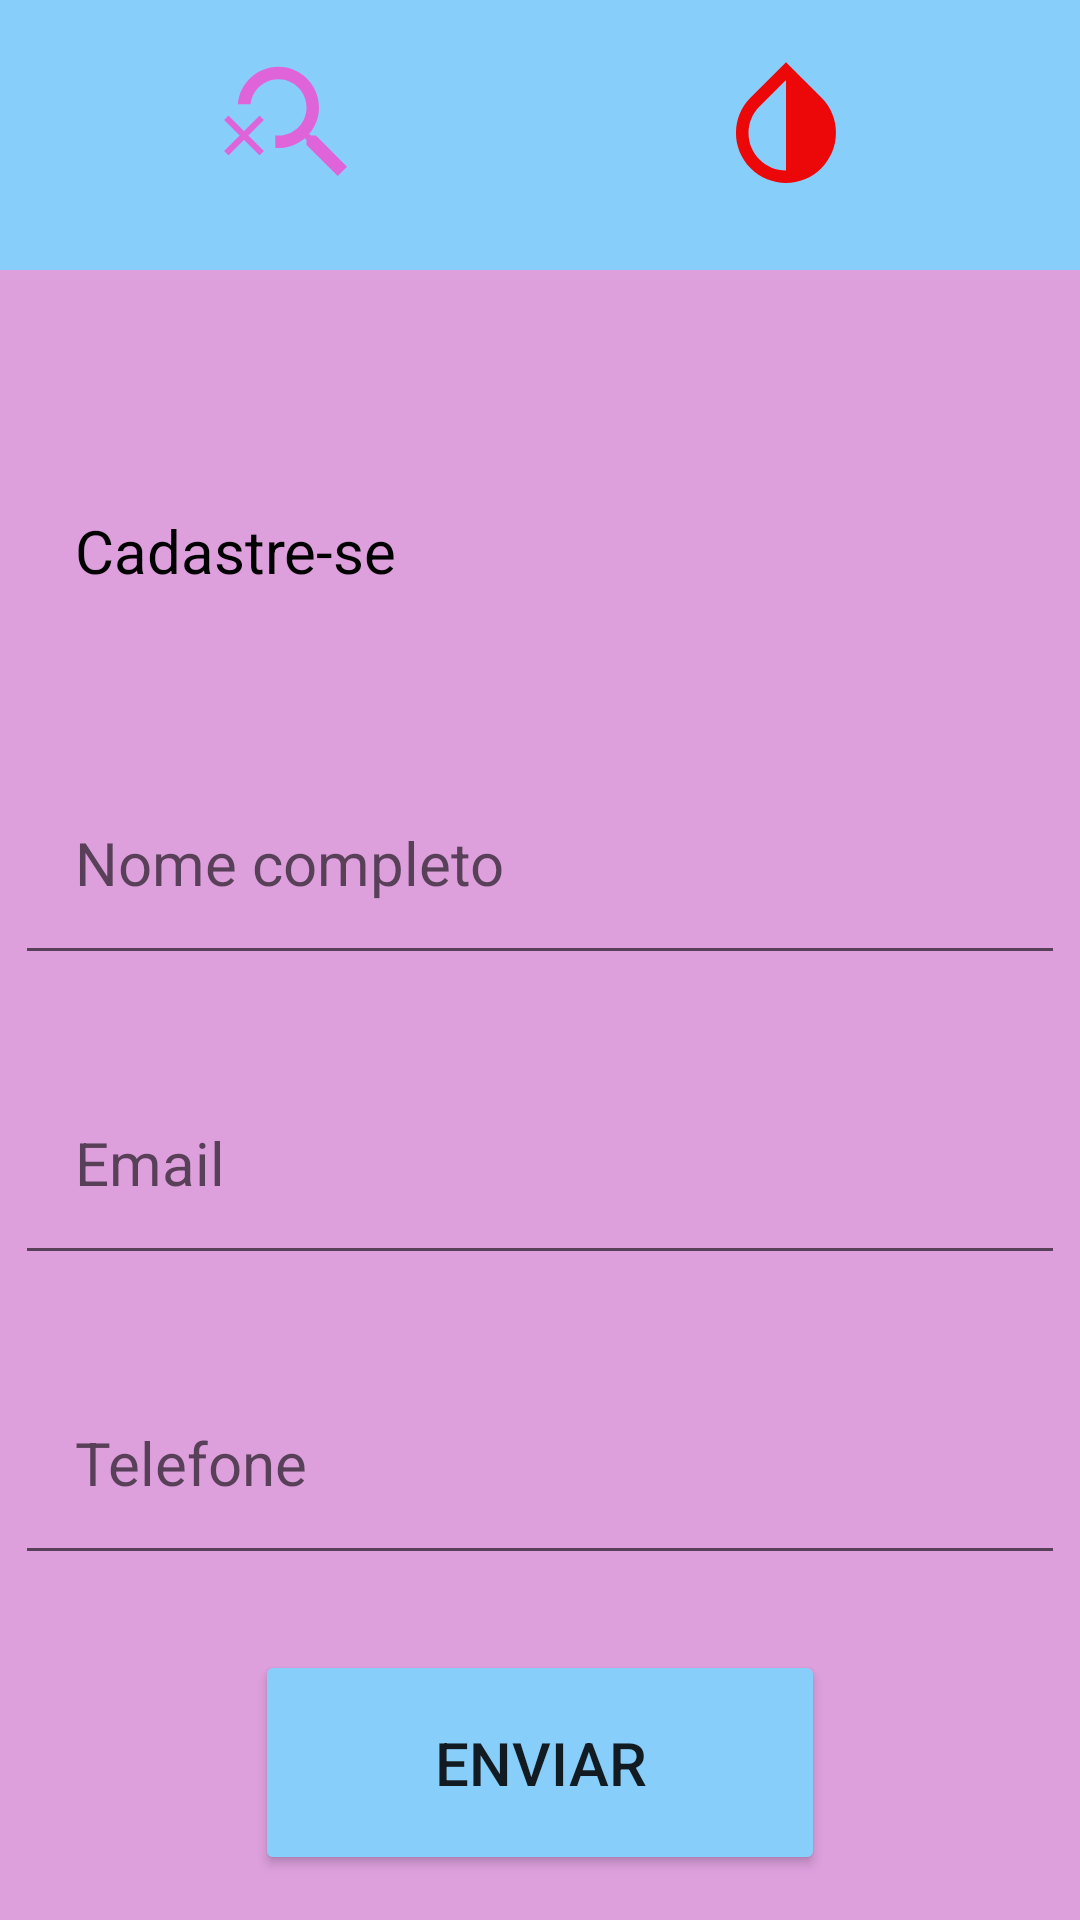

Icon bounding boxes for this 1080w x 1920h phone screenshot, format (x1, y1, x2, y2):
invert colors: (736, 62, 836, 183)
search off: (224, 66, 347, 176)
